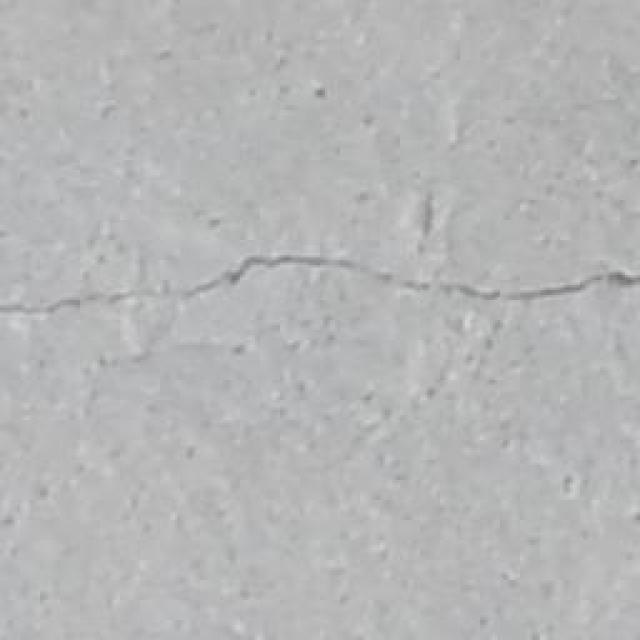concrete-crack: (1, 248, 640, 323)
